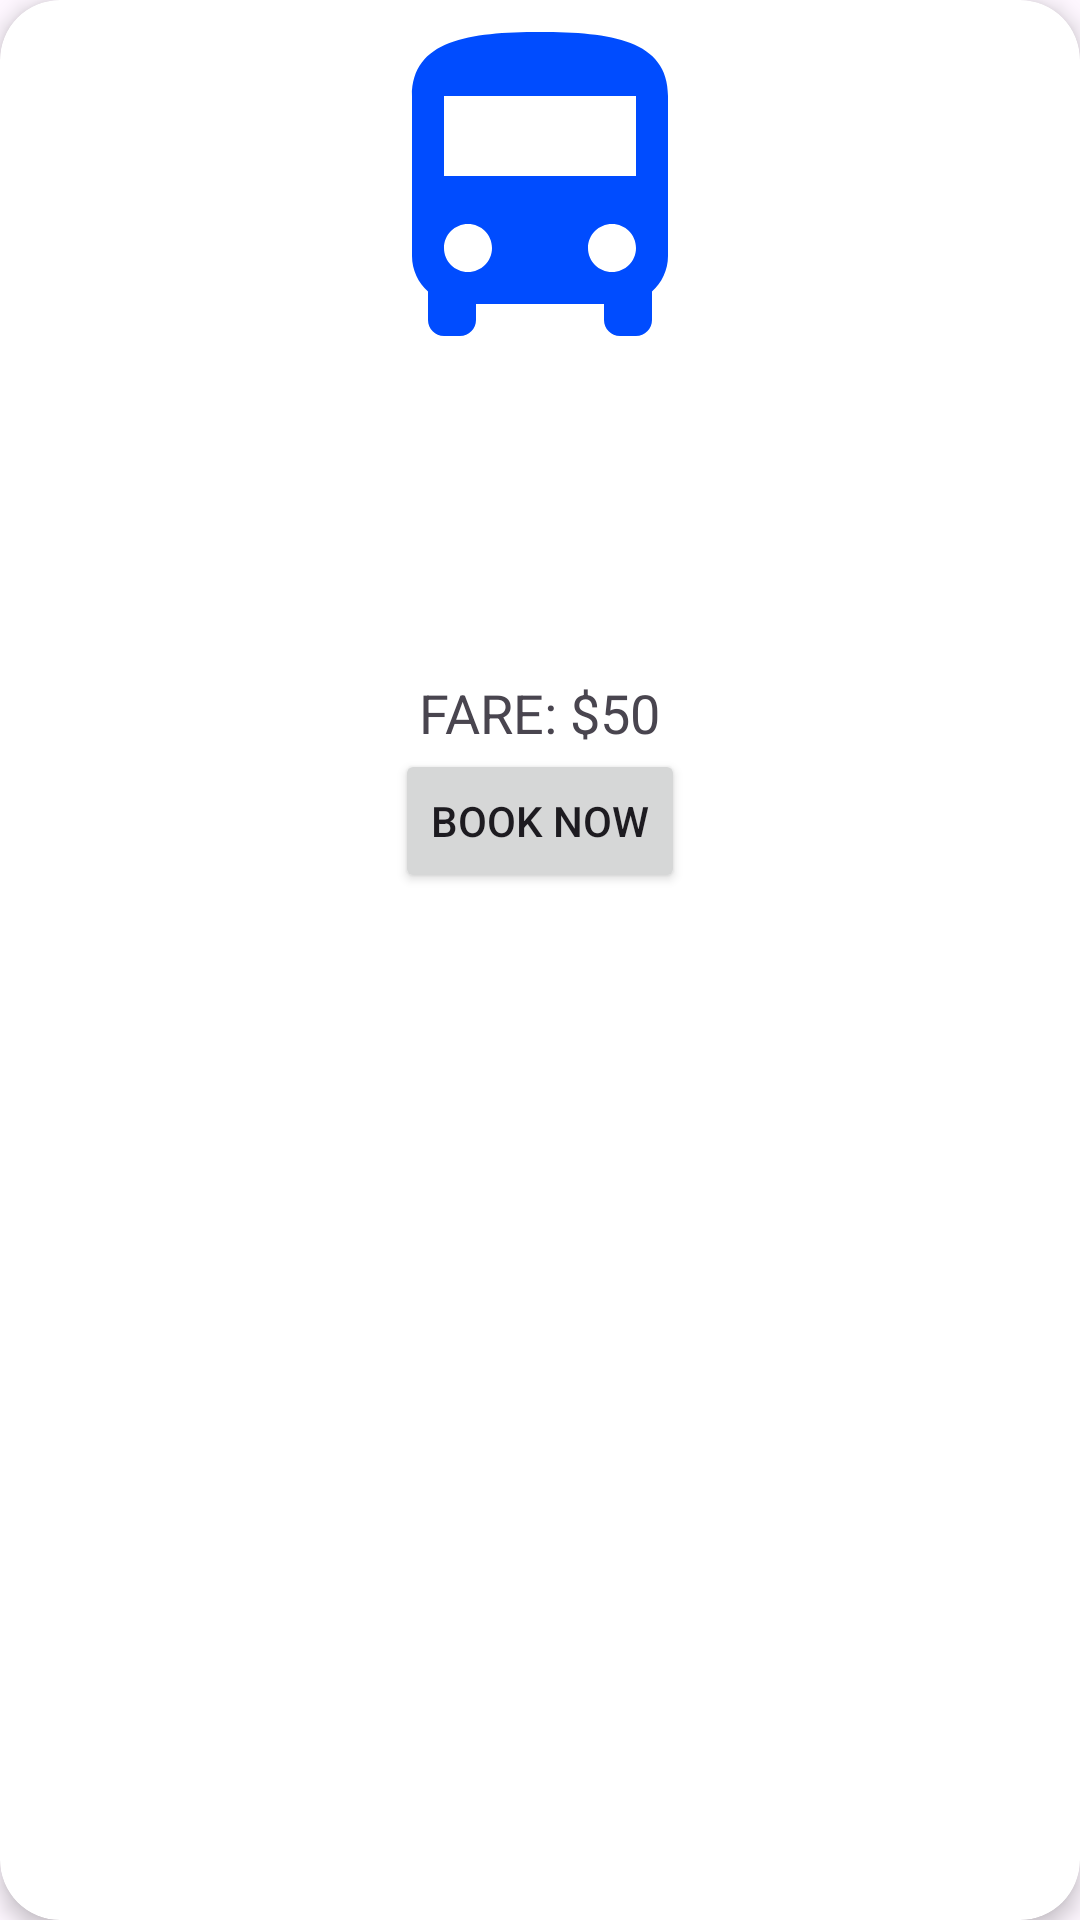

Screen size 1080 × 1920. Icon name, then its box in pixels as (x1, y1, x2, y2):
Bus Image: (411, 32, 668, 336)
